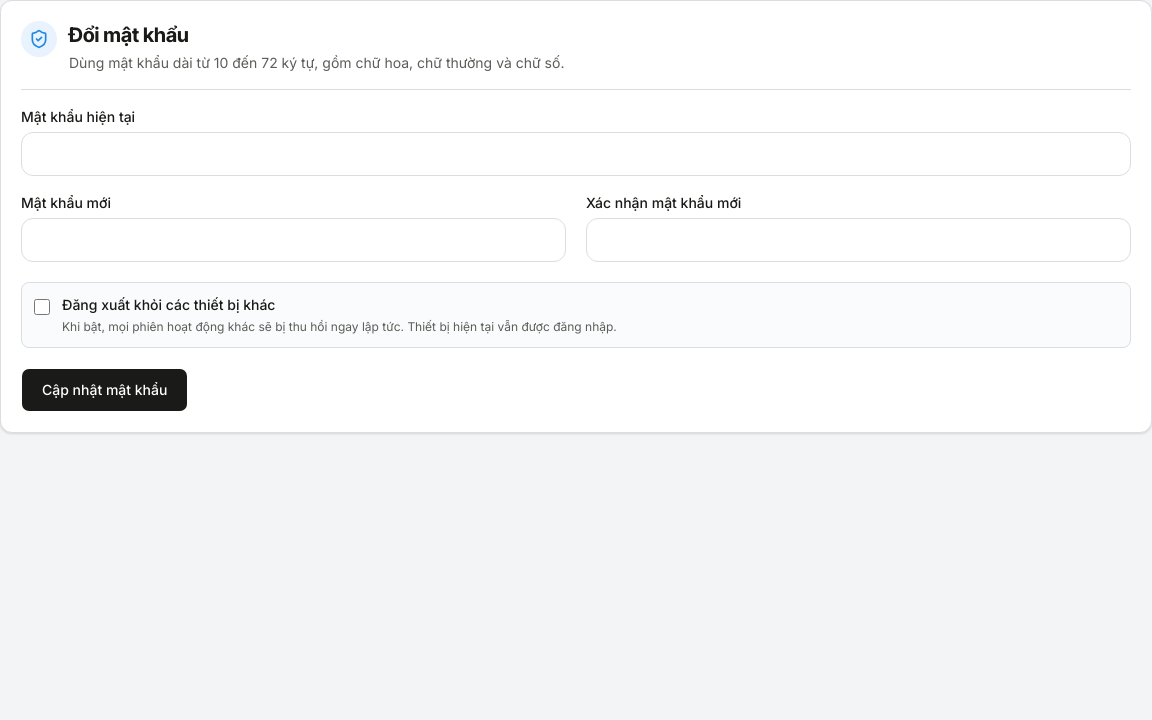
it: ChangePasswordForm › keeps rate limiting at form level
In the password field labelled "Mật khẩu hiện tại": (576, 154) [21,132,1131,176], type "CurrentPass1"
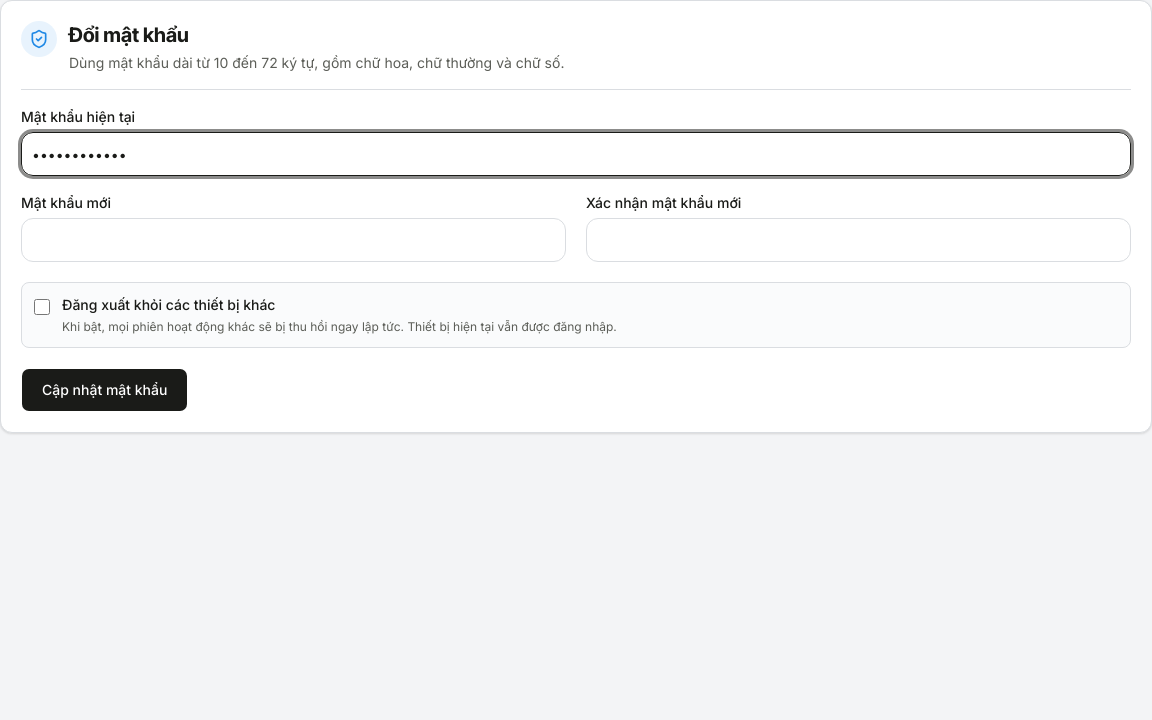
In the password field labelled "Mật khẩu mới": (294, 240) [21,218,566,262], type "NewPassword1"
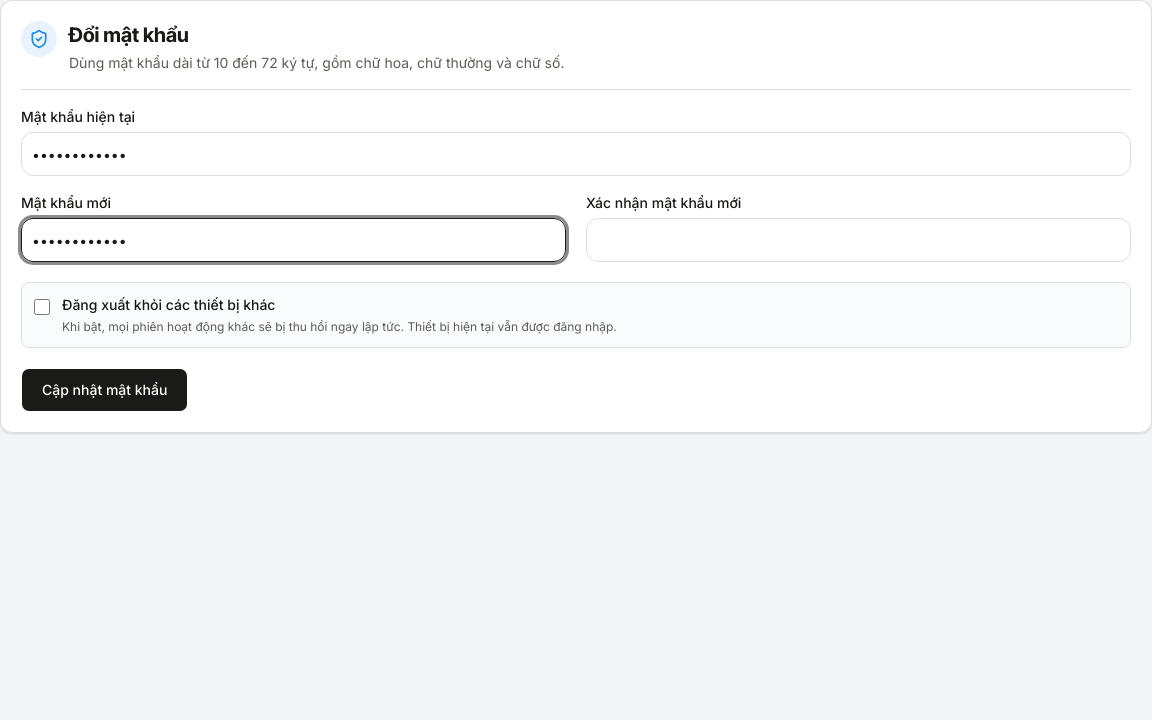
In the password field labelled "Xác nhận mật khẩu mới": (858, 240) [586,218,1131,262], type "NewPassword1"
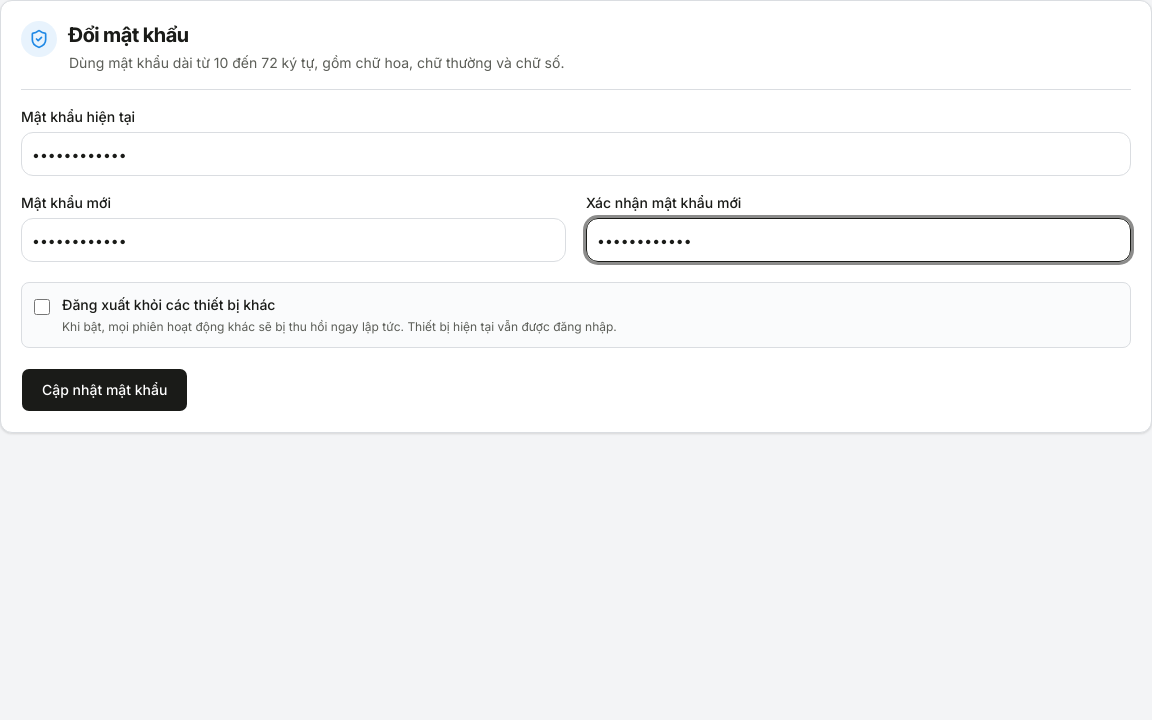
Click the button "Cập nhật mật khẩu": (105, 390) [21,368,188,412]
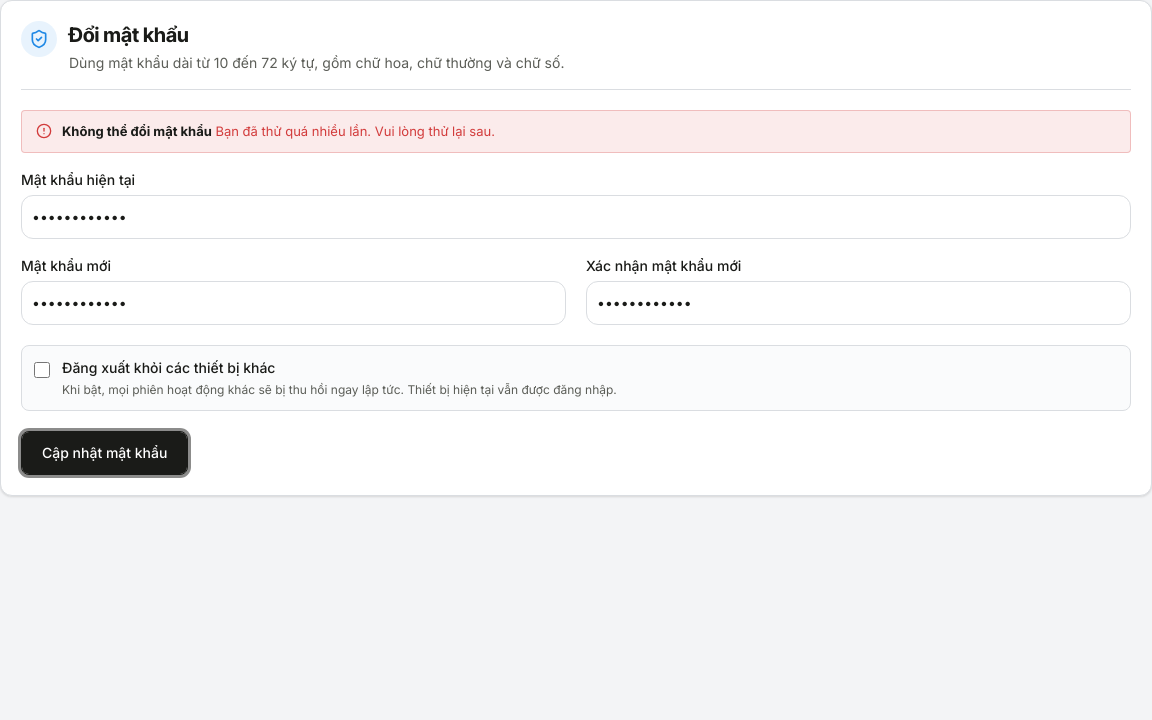
Now the text "thử quá nhiều lần" is shown, box [216,123,495,139]
